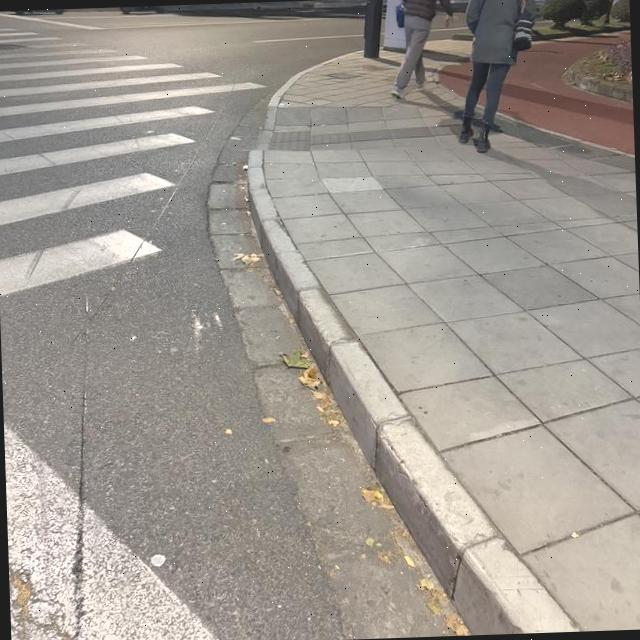curb: (248, 149, 577, 634), (256, 51, 361, 148), (563, 61, 632, 101)
